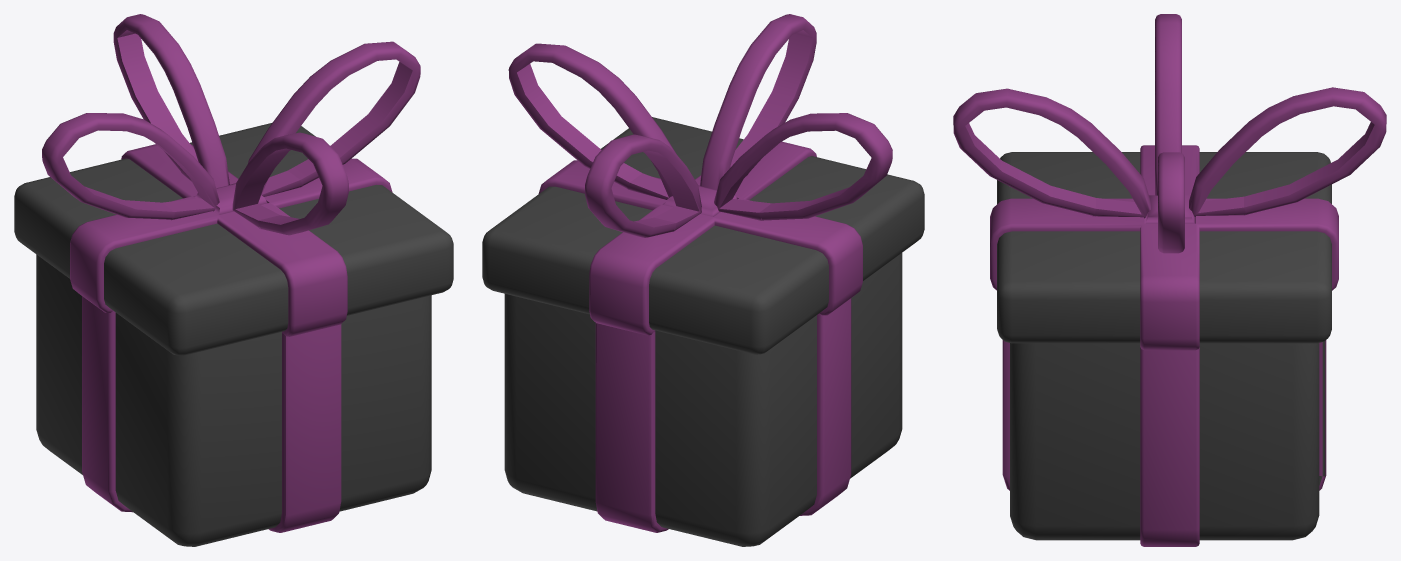
Rendered from Gift Box_3.fbx.
3 renders of one model, left to right at view 1: azimuth 30°, elevation 25°; view 2: azimuth 150°, elevation 25°; view 3: azimuth 270°, elevation 25°, orthographic.
Parts seen in each view (by area): view 1: Gift Box_3; view 2: Gift Box_3; view 3: Gift Box_3.
Boxes of the visible parts, box(x1,y1,x2,y2) form: Gift Box_3: box(14, 14, 453, 546); Gift Box_3: box(482, 14, 924, 546); Gift Box_3: box(953, 14, 1386, 546).
Size of the model in its own units: 0.3616 by 0.3673 by 0.3616.
